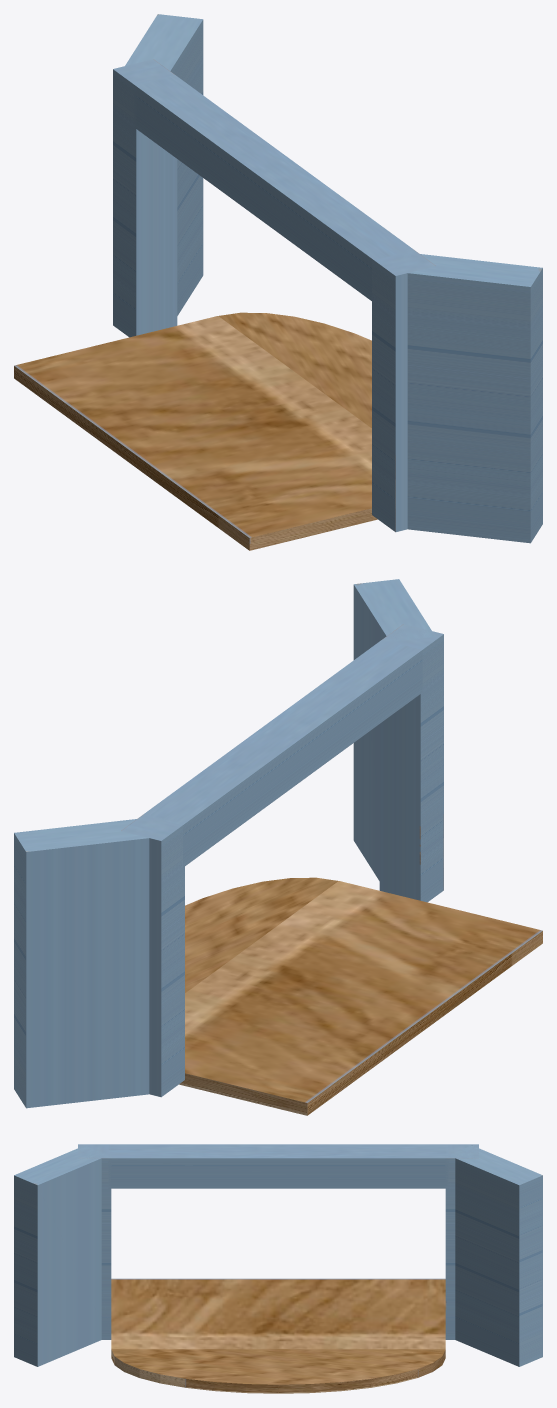
Rendered from stage.dae.
3 renders of one model, top to bottom at view 1: azimuth 30°, elevation 25°; view 2: azimuth 150°, elevation 25°; view 3: azimuth 270°, elevation 25°, orthographic. The views are drawn at different scales.
Visible parts, largest first — view 1: Cube; view 2: Cube; view 3: Cube.
Boxes of the visible parts, box(x1,y1,x2,y2) form: Cube: box(14, 14, 542, 550); Cube: box(14, 579, 542, 1115); Cube: box(14, 1144, 542, 1393).
Size of the model in its own units: 15 by 31.66 by 12.29.
1 material, 1 textured.
